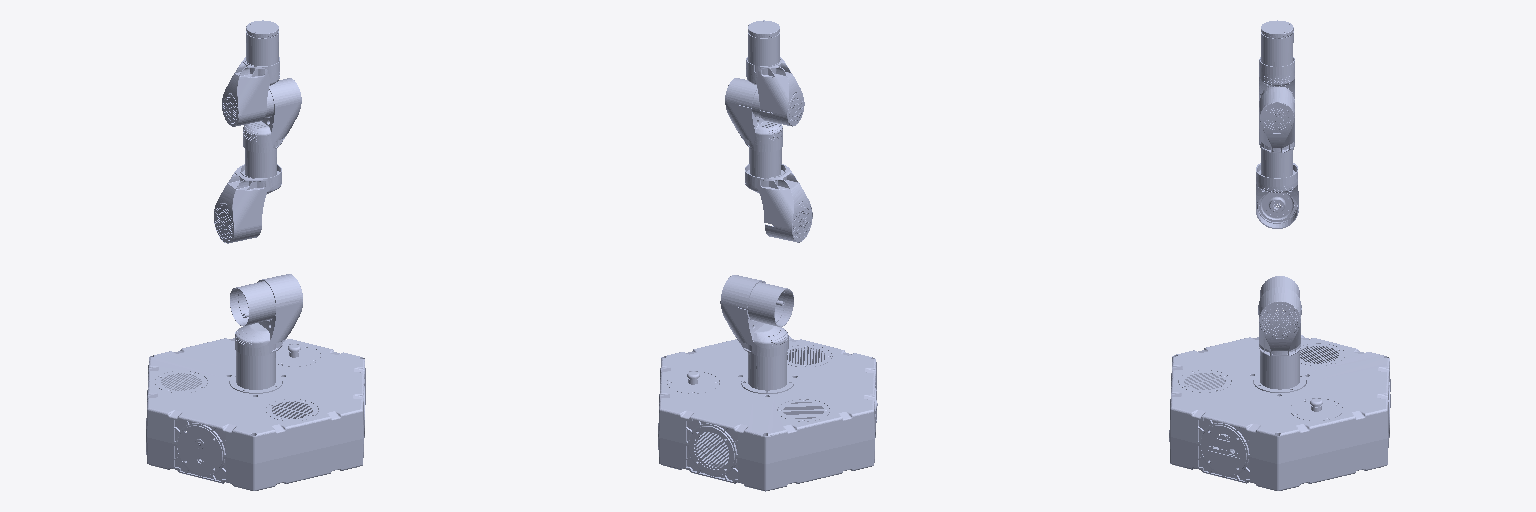
The robot description file, URDF, robot "edo":
<?xml version="1.0" ?>
<robot
  name="edo">
  <link
    name="base_link">
    <inertial>
      <origin
        xyz="0.0617583602130883 0.437262464550775 -0.00395442197852672"
        rpy="0 0 0" />
      <mass
        value="0.0785942338762368" />
      <inertia
        ixx="0.0123841200738068"
        ixy="-0.000187984913202787"
        ixz="-1.32683892634308E-06"
        iyy="7.0169034503364E-05"
        iyz="-9.17416945099319E-05"
        izz="0.0123862261905614" />
    </inertial>
    <visual>
      <origin
        xyz="0 0 0"
        rpy="0 0 0" />
      <geometry>
        <mesh
          filename="meshes/base_link.STL" />
      </geometry>
      <material
        name="">
        <color
          rgba="0.792156862745098 0.819607843137255 0.933333333333333 1" />
      </material>
    </visual>
    <collision>
      <origin
        xyz="0 0 0"
        rpy="0 0 0" />
      <geometry>
        <mesh
          filename="meshes/base_link.STL" />
      </geometry>
    </collision>
  </link>
  <link
    name="link_1">
    <inertial>
      <origin
        xyz="-0.00457048841401064 0.303831811417004 -0.00202866410579916"
        rpy="0 0 0" />
      <mass
        value="0.0785942338762368" />
      <inertia
        ixx="0.0123841200738068"
        ixy="0.000187984913202727"
        ixz="-1.32683892634271E-06"
        iyy="7.01690345033622E-05"
        iyz="9.17416945099368E-05"
        izz="0.0123862261905615" />
    </inertial>
    <visual>
      <origin
        xyz="0 0 0"
        rpy="0 0 0" />
      <geometry>
        <mesh
          filename="meshes/link_1.STL" />
      </geometry>
      <material
        name="">
        <color
          rgba="0.792156862745098 0.819607843137255 0.933333333333333 1" />
      </material>
    </visual>
    <collision>
      <origin
        xyz="0 0 0"
        rpy="0 0 0" />
      <geometry>
        <mesh
          filename="meshes/link_1.STL" />
      </geometry>
    </collision>
  </link>
  <joint
    name="joint_1"
    type="continuous">
    <origin
      xyz="0.057188 0.0059831 0.13343"
      rpy="1.5708 6.9389E-16 -3.1416" />
    <parent
      link="base_link" />
    <child
      link="link_1" />
    <axis
      xyz="0 1 0" />
  </joint>
  <link
    name="link_2">
    <inertial>
      <origin
        xyz="-0.0168406485709407 0.071318237296396 -0.0876822373080704"
        rpy="0 0 0" />
      <mass
        value="0.0785942338762368" />
      <inertia
        ixx="0.0122070242873091"
        ixy="0.000930596667670934"
        ixz="-0.0011486325666074"
        iyy="0.007576065624266"
        iyz="0.0059380539105297"
        izz="0.00505742538729646" />
    </inertial>
    <visual>
      <origin
        xyz="0 0 0"
        rpy="0 0 0" />
      <geometry>
        <mesh
          filename="meshes/link_2.STL" />
      </geometry>
      <material
        name="">
        <color
          rgba="0.792156862745098 0.819607843137255 0.933333333333333 1" />
      </material>
    </visual>
    <collision>
      <origin
        xyz="0 0 0"
        rpy="0 0 0" />
      <geometry>
        <mesh
          filename="meshes/link_2.STL" />
      </geometry>
    </collision>
  </link>
  <joint
    name="joint_2"
    type="continuous">
    <origin
      xyz="0 0.18967 0"
      rpy="0.94237 -0.4634 -0.11653" />
    <parent
      link="link_1" />
    <child
      link="link_2" />
    <axis
      xyz="-0.88847 0.2908 0.35504" />
  </joint>
  <link
    name="link_3">
    <inertial>
      <origin
        xyz="0.00457048841401063 0.0962524890074447 0.00395442197852662"
        rpy="0 0 0" />
      <mass
        value="0.0785942338762368" />
      <inertia
        ixx="0.0123841200738068"
        ixy="0.000187984913202718"
        ixz="1.32683892634266E-06"
        iyy="7.01690345033619E-05"
        iyz="-9.17416945099381E-05"
        izz="0.0123862261905615" />
    </inertial>
    <visual>
      <origin
        xyz="0 0 0"
        rpy="0 0 0" />
      <geometry>
        <mesh
          filename="meshes/link_3.STL" />
      </geometry>
      <material
        name="">
        <color
          rgba="0.792156862745098 0.819607843137255 0.933333333333333 1" />
      </material>
    </visual>
    <collision>
      <origin
        xyz="0 0 0"
        rpy="0 0 0" />
      <geometry>
        <mesh
          filename="meshes/link_3.STL" />
      </geometry>
    </collision>
  </link>
  <joint
    name="joint_3"
    type="continuous">
    <origin
      xyz="-0.024558 0.12737 -0.16578"
      rpy="0.97336 -0.36296 2.8253" />
    <parent
      link="link_2" />
    <child
      link="link_3" />
    <axis
      xyz="1 0 0" />
  </joint>
  <link
    name="link_4">
    <inertial>
      <origin
        xyz="-0.00422951158597114 -0.00395442197852627 0.255057059248813"
        rpy="0 0 0" />
      <mass
        value="0.0785942338762368" />
      <inertia
        ixx="0.0123841200738068"
        ixy="-1.32683892634285E-06"
        ixz="0.000187984913202718"
        iyy="0.0123862261905615"
        iyz="9.17416945099506E-05"
        izz="7.01690345033621E-05" />
    </inertial>
    <visual>
      <origin
        xyz="0 0 0"
        rpy="0 0 0" />
      <geometry>
        <mesh
          filename="meshes/link_4.STL" />
      </geometry>
      <material
        name="">
        <color
          rgba="0.792156862745098 0.819607843137255 0.933333333333333 1" />
      </material>
    </visual>
    <collision>
      <origin
        xyz="0 0 0"
        rpy="0 0 0" />
      <geometry>
        <mesh
          filename="meshes/link_4.STL" />
      </geometry>
    </collision>
  </link>
  <joint
    name="joint_4"
    type="continuous">
    <origin
      xyz="0.0088 -0.1588 0"
      rpy="-1.5708 0 0" />
    <parent
      link="link_3" />
    <child
      link="link_4" />
    <axis
      xyz="0 0 -1" />
  </joint>
  <link
    name="link_5">
    <inertial>
      <origin
        xyz="0.00422951158596777 -0.00395442197852616 -0.360352489007445"
        rpy="0 0 0" />
      <mass
        value="0.0785942338762368" />
      <inertia
        ixx="0.0123841200738068"
        ixy="1.32683892634191E-06"
        ixz="0.000187984913202582"
        iyy="0.0123862261905615"
        iyz="-9.17416945099552E-05"
        izz="7.01690345033581E-05" />
    </inertial>
    <visual>
      <origin
        xyz="0 0 0"
        rpy="0 0 0" />
      <geometry>
        <mesh
          filename="meshes/link_5.STL" />
      </geometry>
      <material
        name="">
        <color
          rgba="0.792156862745098 0.819607843137255 0.933333333333333 1" />
      </material>
    </visual>
    <collision>
      <origin
        xyz="0 0 0"
        rpy="0 0 0" />
      <geometry>
        <mesh
          filename="meshes/link_5.STL" />
      </geometry>
    </collision>
  </link>
  <joint
    name="joint_5"
    type="continuous">
    <origin
      xyz="0 0 -0.1053"
      rpy="3.1416 1.1102E-14 3.1416" />
    <parent
      link="link_4" />
    <child
      link="link_5" />
    <axis
      xyz="-1 0 0" />
  </joint>
  <link
    name="link_6">
    <inertial>
      <origin
        xyz="1.10581233290358E-05 -0.00932339385603209 6.35624315718574E-06"
        rpy="0 0 0" />
      <mass
        value="0.0279702497322662" />
      <inertia
        ixx="7.63464744598253E-06"
        ixy="1.89204959067221E-10"
        ixz="5.32970316039599E-09"
        iyy="1.45744912344428E-05"
        iyz="1.08958003890421E-10"
        izz="7.62871791498103E-06" />
    </inertial>
    <visual>
      <origin
        xyz="0 0 0"
        rpy="0 0 0" />
      <geometry>
        <mesh
          filename="meshes/link_6.STL" />
      </geometry>
      <material
        name="">
        <color
          rgba="0.792156862745098 0.819607843137255 0.933333333333333 1" />
      </material>
    </visual>
    <collision>
      <origin
        xyz="0 0 0"
        rpy="0 0 0" />
      <geometry>
        <mesh
          filename="meshes/link_6.STL" />
      </geometry>
    </collision>
  </link>
  <joint
    name="joint_6"
    type="continuous">
    <origin
      xyz="-0.0039 0 0.1636"
      rpy="-1.5708 1.249E-14 0" />
    <parent
      link="link_5" />
    <child
      link="link_6" />
    <axis
      xyz="0 -1 0" />
  </joint>
</robot>

--- What the picture shows (computed from the rendered views, not written in the file) ---
3 views of the same robot in one strip: view 1: azimuth 30°, elevation 25°; view 2: azimuth 150°, elevation 25°; view 3: azimuth 270°, elevation 25° (orthographic).
Robot: edo — 7 links, 6 joints (6 continuous); root link base_link; default pose: all joints at 0.
Visible links, largest first — view 1: base_link, link_1, link_3, link_5, link_4; view 2: base_link, link_1, link_3, link_5, link_4; view 3: base_link, link_1, link_3, link_4, link_5.
Boxes of the visible links, left/top/right/bottom form: base_link: left=146, top=338, right=365, bottom=490; link_1: left=230, top=274, right=302, bottom=389; link_3: left=214, top=149, right=281, bottom=243; link_5: left=222, top=31, right=279, bottom=126; link_4: left=243, top=78, right=301, bottom=152; base_link: left=658, top=336, right=877, bottom=491; link_1: left=720, top=275, right=793, bottom=390; link_3: left=745, top=146, right=812, bottom=242; link_5: left=746, top=32, right=804, bottom=126; link_4: left=725, top=78, right=782, bottom=151; base_link: left=1169, top=335, right=1390, bottom=490; link_1: left=1258, top=276, right=1301, bottom=389; link_3: left=1256, top=148, right=1298, bottom=228; link_4: left=1259, top=87, right=1294, bottom=152; link_5: left=1259, top=31, right=1294, bottom=109.
Bounding box of the posed robot: 0.5381 × 0.4719 × 0.9752 m (x, y, z).
6 mesh visuals loaded from 7 distinct referenced files (6 binary STL); not drawn: 1 (reference not matched to a file when rendering).